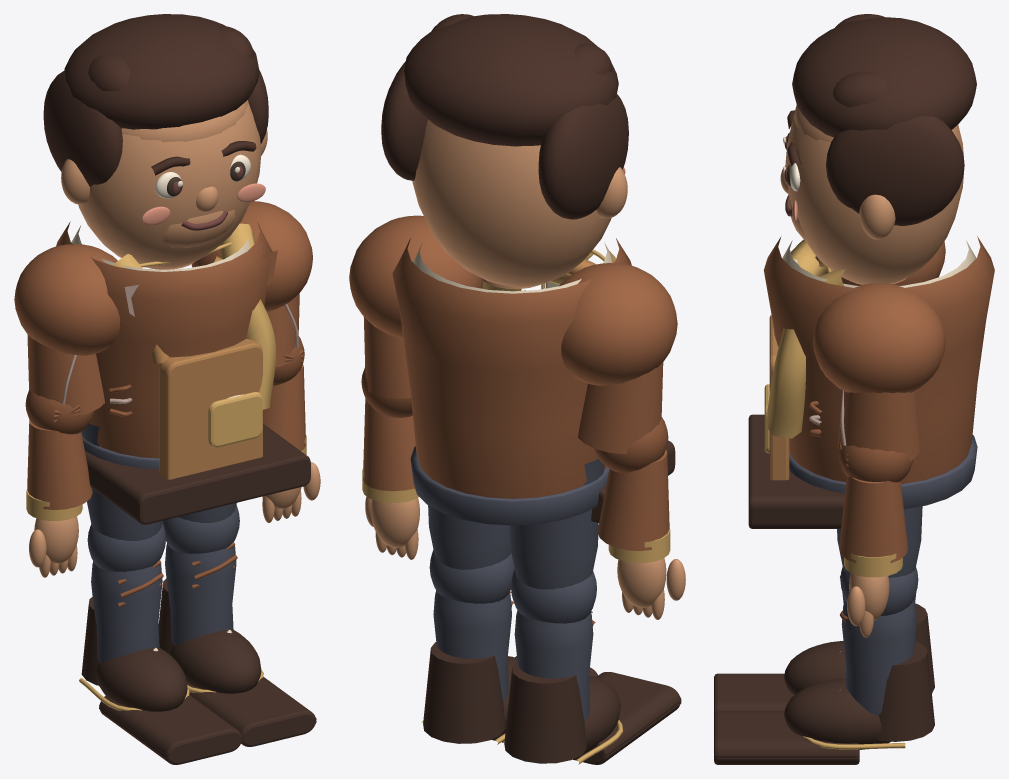
The model's file is june.glb.
3 renders of one model, left to right at view 1: azimuth 30°, elevation 25°; view 2: azimuth 150°, elevation 25°; view 3: azimuth 270°, elevation 25°, orthographic. The views are drawn at different scales.
Visible parts, largest first — view 1: Tailored coat, Hair cap, Face, Apron panel, Tool belt, Shoulder -1, Sole -1, Trousers calf 1, Trousers calf -1, Side hair -1, Sole 1, Sleeve forearm -1 (+28 smaller); view 2: Tailored coat, Hair cap, Face, Shoulder -1, Side hair -1, Shoulder 1, Boot shaft -1, Boot shaft 1, Trousers thigh -1, Trouser waistband, Sleeve forearm -1, Sleeve upper -1 (+20 smaller); view 3: Tailored coat, Hair cap, Shoulder 1, Side hair 1, Face, Tool belt, Sole 1, Trousers calf 1, Sleeve forearm 1, Leather toe 1, Sleeve upper 1, Boot shaft 1 (+19 smaller).
Boxes of the visible parts, box(x1,y1,x2,y2) form: Tailored coat: box(56, 221, 272, 458); Hair cap: box(64, 14, 259, 129); Face: box(78, 103, 261, 268); Apron panel: box(159, 339, 262, 479); Tool belt: box(85, 423, 310, 524); Shoulder -1: box(14, 244, 120, 355); Sole -1: box(99, 695, 242, 764); Trousers calf 1: box(165, 543, 236, 644); Trousers calf -1: box(91, 561, 162, 662); Side hair -1: box(43, 71, 122, 186); Sole 1: box(186, 677, 316, 746); Sleeve forearm -1: box(27, 420, 92, 509); Tailored coat: box(392, 238, 631, 498); Hair cap: box(404, 14, 618, 146); Face: box(412, 119, 611, 286); Shoulder -1: box(559, 263, 677, 385); Side hair -1: box(538, 94, 628, 219); Shoulder 1: box(349, 215, 483, 337); Boot shaft -1: box(504, 662, 586, 763); Boot shaft 1: box(423, 642, 505, 743); Trousers thigh -1: box(509, 458, 604, 589); Trouser waistband: box(410, 446, 609, 525); Sleeve forearm -1: box(597, 449, 669, 550); Sleeve upper -1: box(578, 362, 663, 454); Tailored coat: box(763, 236, 994, 483); Hair cap: box(792, 17, 976, 137); Shoulder 1: box(813, 283, 945, 393); Side hair 1: box(826, 116, 964, 225); Face: box(785, 113, 964, 284); Tool belt: box(748, 414, 844, 528); Sole 1: box(714, 711, 859, 764); Trousers calf 1: box(841, 600, 916, 715); Sleeve forearm 1: box(839, 476, 908, 563); Leather toe 1: box(784, 678, 890, 749); Sleeve upper 1: box(837, 390, 921, 461); Boot shaft 1: box(877, 641, 934, 741).
Bounding box in the file's own units: 1.23 × 2.69 × 0.9817.
